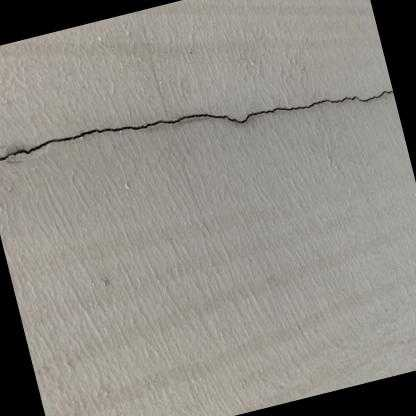crack: (0, 90, 394, 163)
